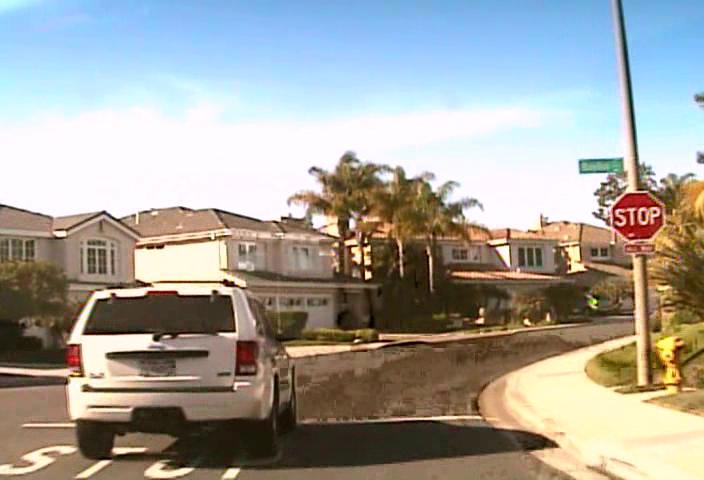stop: (610, 189, 664, 241)
